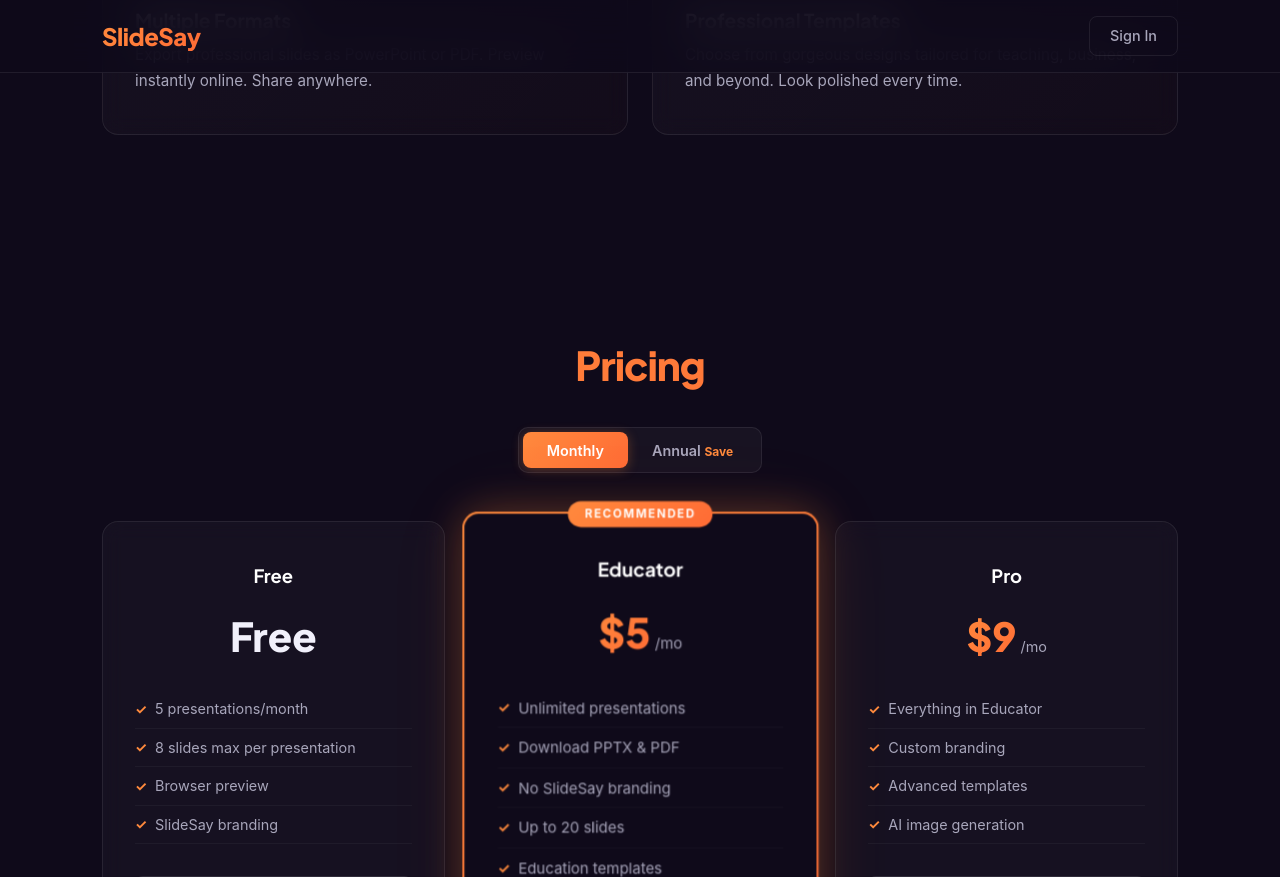
Test: LandingPage › monthly/annual toggle works and annual shows savings
(page scrolled)
Click the button "Annual Save": x=693, y=450 x1=628 y1=432 x2=757 y2=468
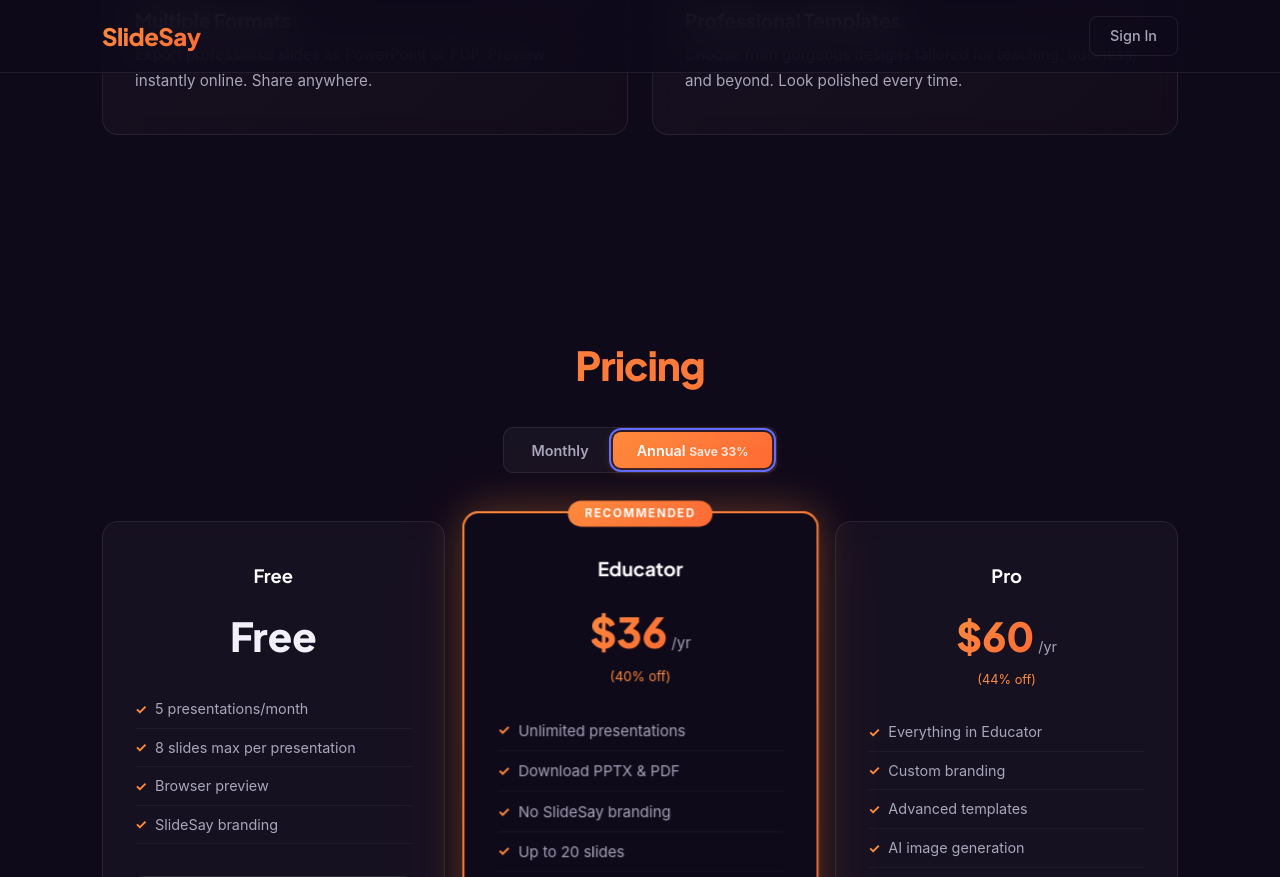
Expected: the text "Save 33%" is shown, x1=689 y1=444 x2=748 y2=459
